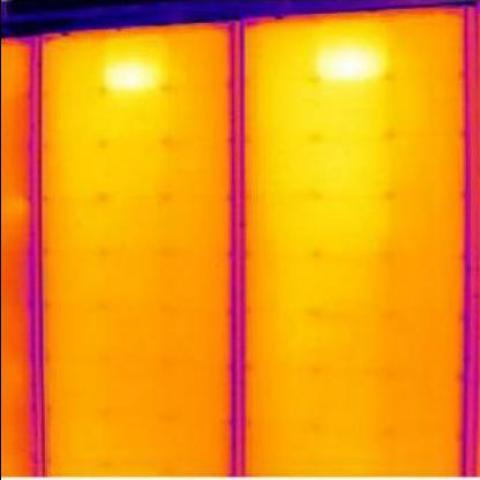fault: (318, 51, 382, 77), (104, 63, 160, 87)
